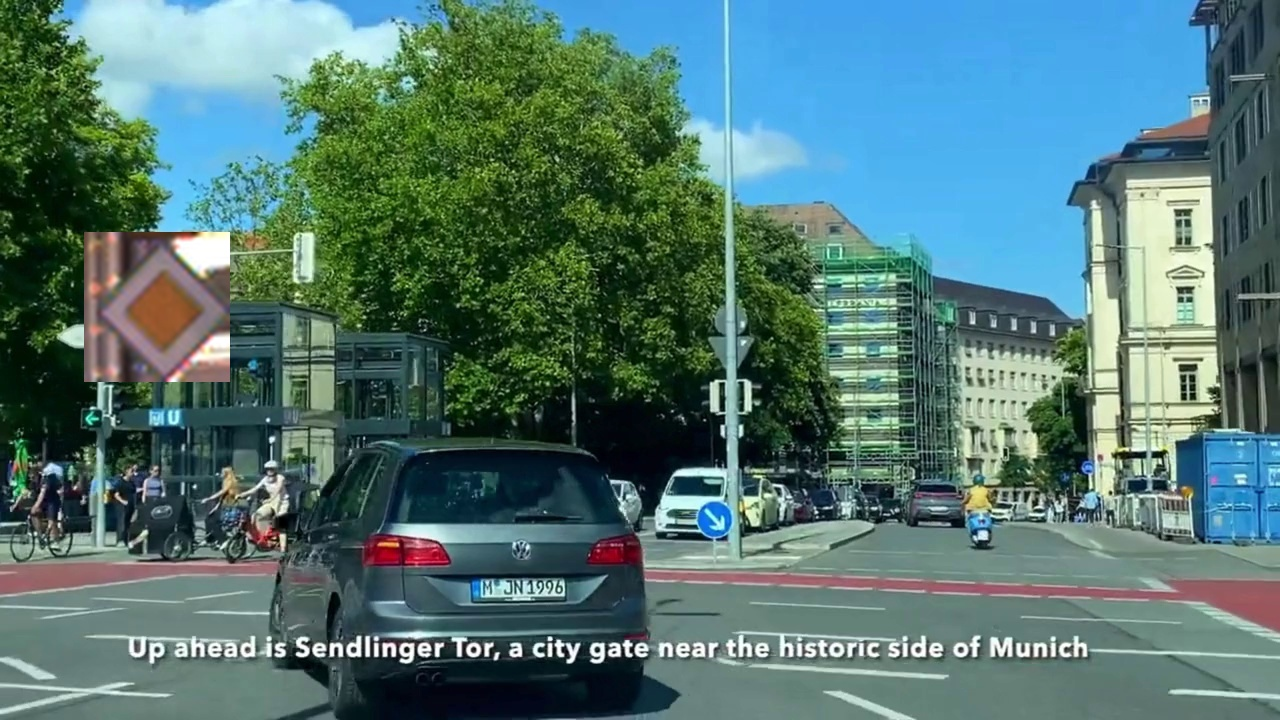Priority road: (84, 232, 230, 382)
